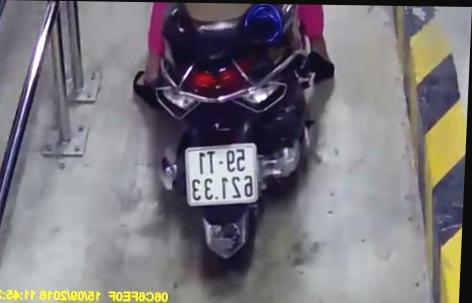License_Plate: (178, 140, 269, 215)
